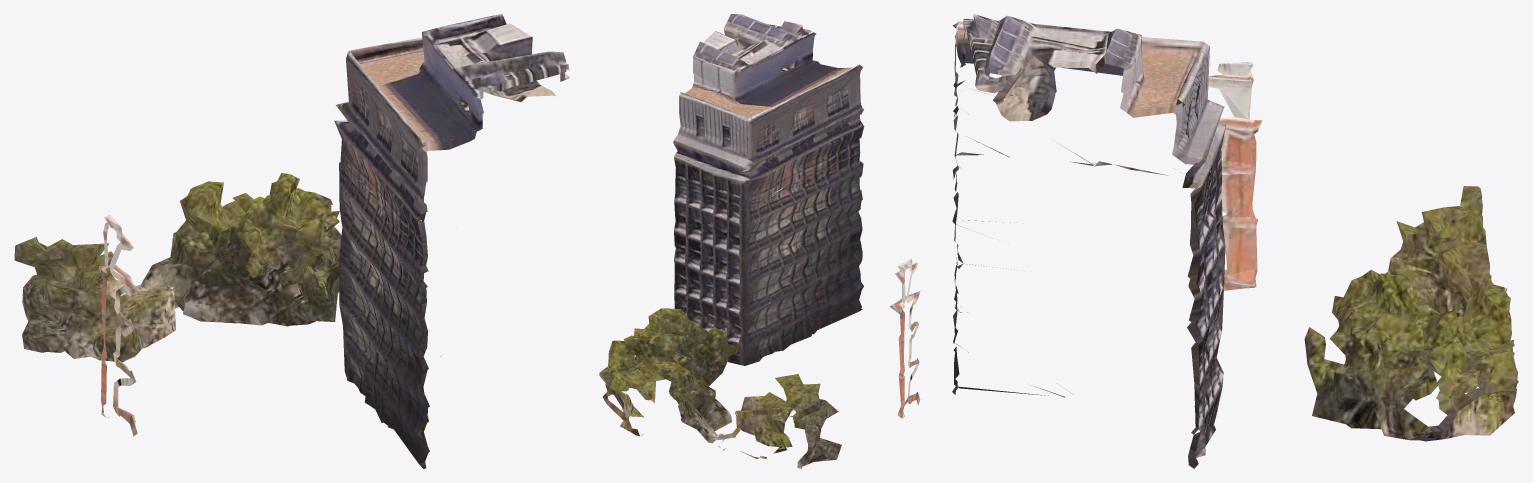
3 views of the same model, side by side, from view 1: azimuth 30°, elevation 25°; view 2: azimuth 150°, elevation 25°; view 3: azimuth 270°, elevation 25° (orthographic). The views are drawn at different scales.
Visible parts, largest first — view 1: Mesh_0; view 2: Mesh_0; view 3: Mesh_0.
Boxes of the visible parts, x1=… form: Mesh_0: x1=14, y1=14, x2=569, y2=468; Mesh_0: x1=599, y1=14, x2=920, y2=468; Mesh_0: x1=952, y1=14, x2=1518, y2=468.
Size of the model in its own units: 31.66 by 32.52 by 39.67.
Materials: 2 (2 with a texture image).
